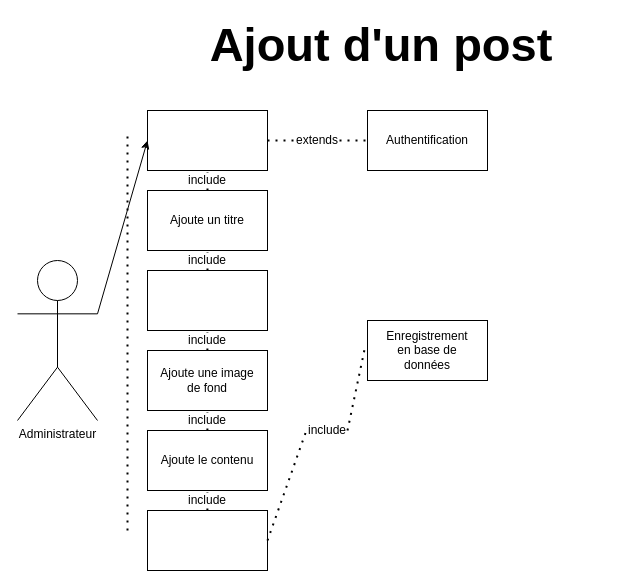
Some shapes in this 639 by 588 pixel diagram are drawn without their labels. The shapes that lost their labels are listed below. From the top down, each one's centre as x and y in pixels, then its label:
At point (207, 140): "Clique ajout nouvel article".
At point (207, 300): "Ajoute un phrase d'accroche".
At point (207, 540): "Clique sur valider".
